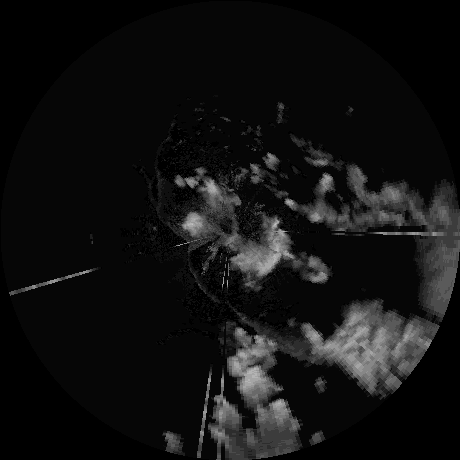frontgust: (183, 249, 258, 331), (152, 171, 192, 242)
